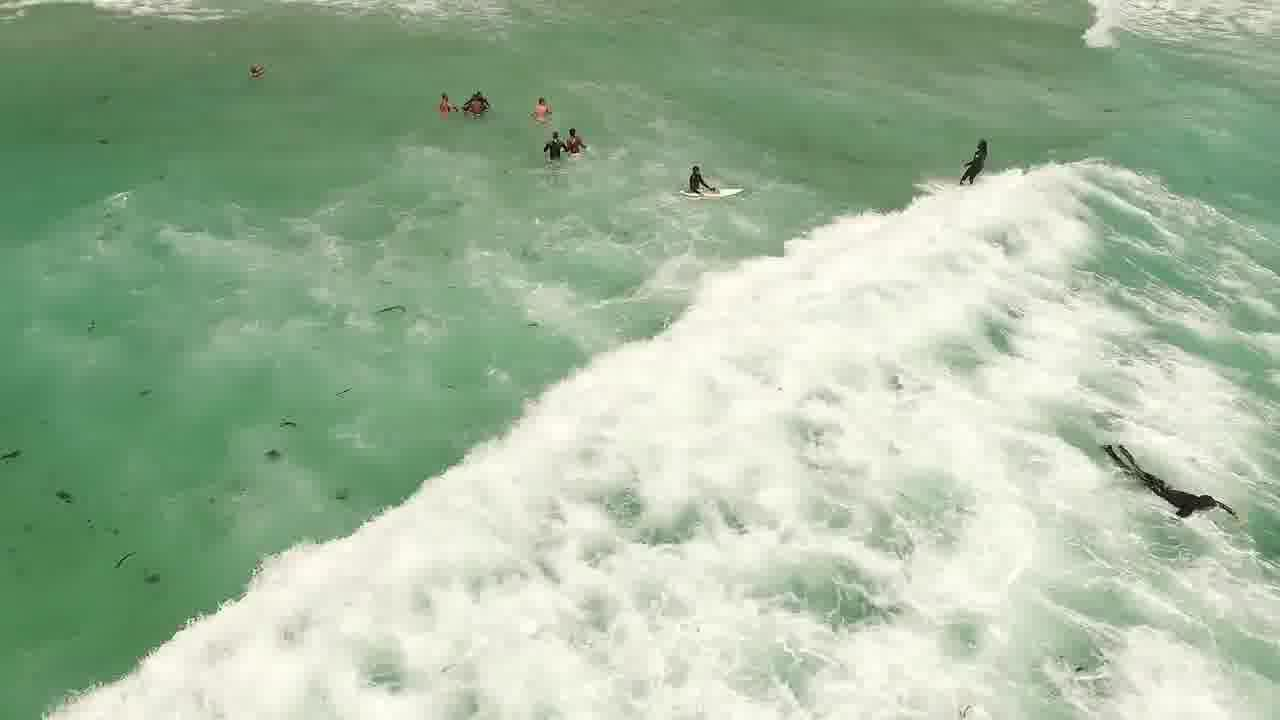swimmer: (1106, 439, 1234, 529), (223, 50, 283, 94), (950, 126, 996, 180), (675, 148, 715, 186), (567, 118, 600, 161), (457, 83, 495, 120), (528, 88, 563, 123), (540, 125, 565, 164), (433, 84, 458, 120)
